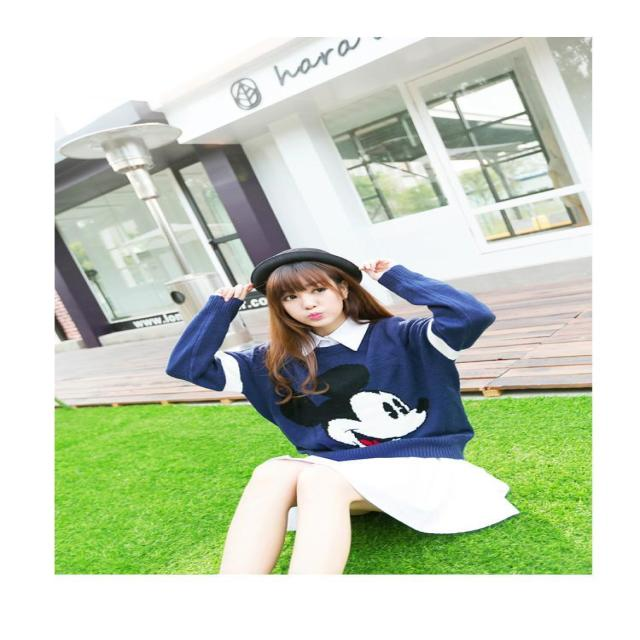long-sleeve-top: (167, 298, 510, 459)
